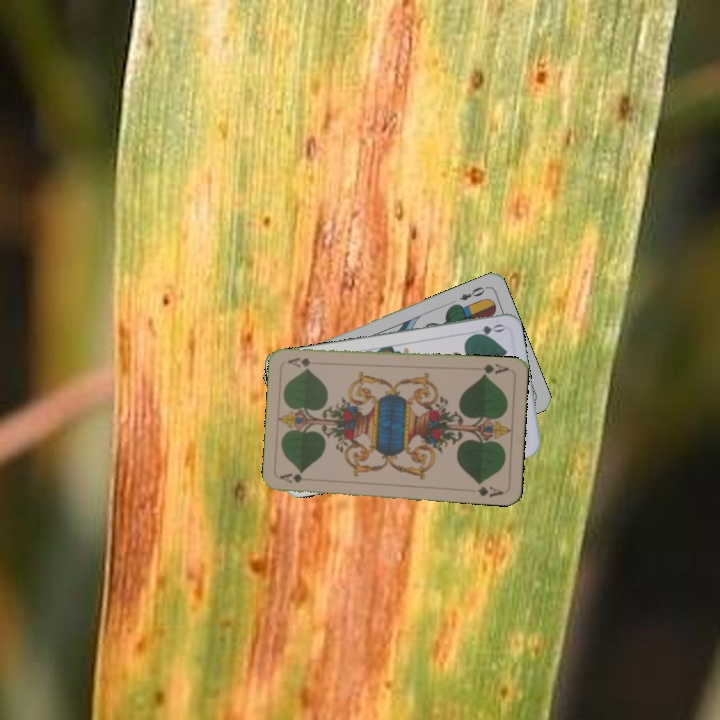EO: (456, 282, 490, 303)
GA: (471, 360, 511, 379), (277, 469, 317, 486)
GO: (466, 320, 506, 340)
